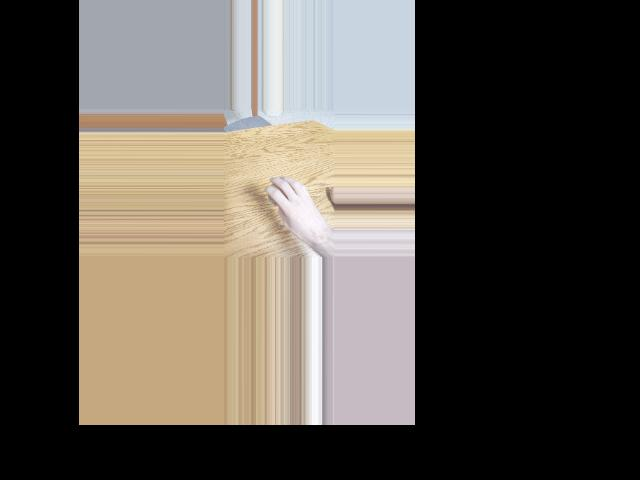onion: (267, 182, 289, 209)
